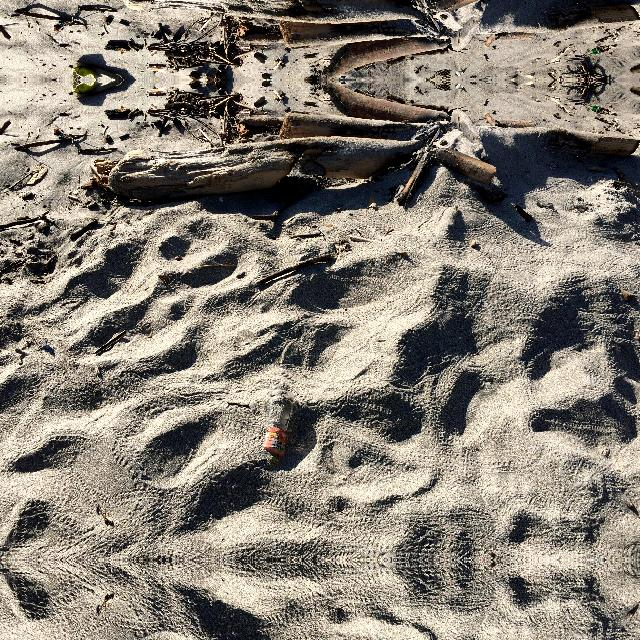Plastic: (262, 381, 296, 461)
